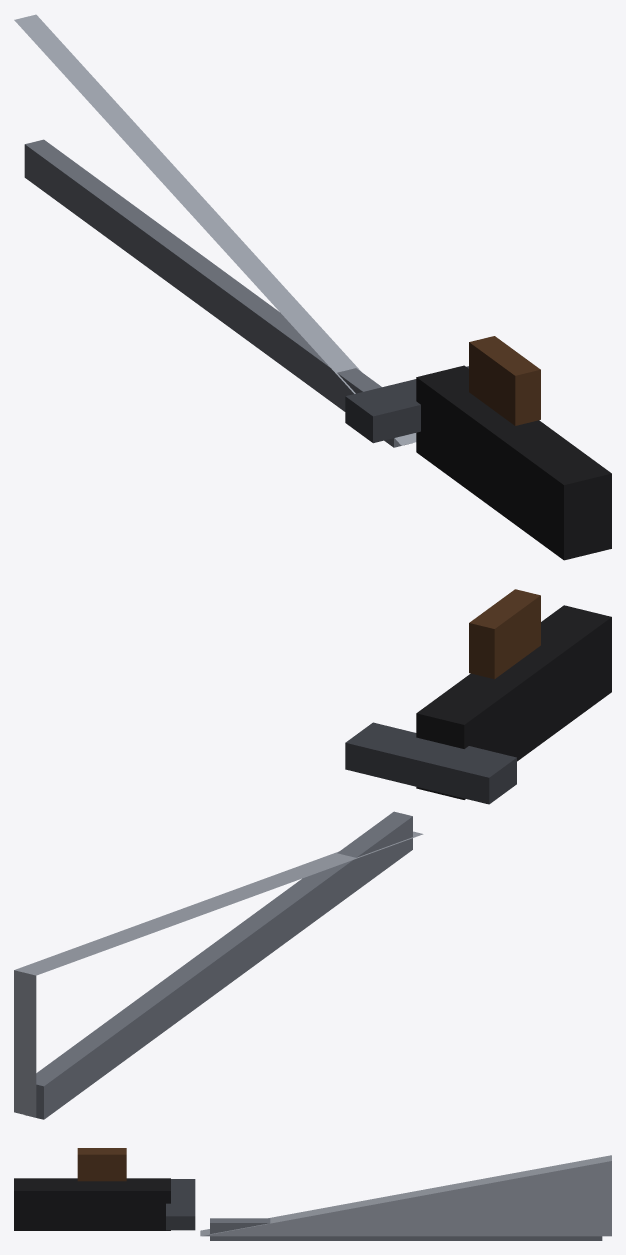
Rendered from wep_machete.glb.
The picture shows the model from 3 angles, top to bottom: view 1: azimuth 30°, elevation 25°; view 2: azimuth 150°, elevation 25°; view 3: azimuth 270°, elevation 25°; orthographic projection. The views are drawn at different scales.
Visible parts, largest first — view 1: wep_machete; view 2: wep_machete; view 3: wep_machete.
Boxes of the visible parts, <box> form: wep_machete: <box>14,14,611,560</box>; wep_machete: <box>14,589,611,1119</box>; wep_machete: <box>14,1148,611,1240</box>.
Size of the model in its own units: 0.09 by 0.098 by 0.61.
